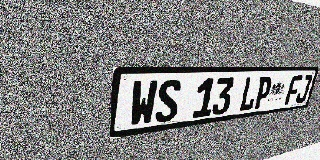1: (192, 78, 217, 118)
3: (211, 77, 235, 115)
F: (284, 75, 303, 105)
J: (295, 75, 313, 104)
L: (238, 77, 260, 112)
P: (253, 76, 273, 110)
S: (154, 79, 182, 123)
W: (129, 80, 158, 127)
